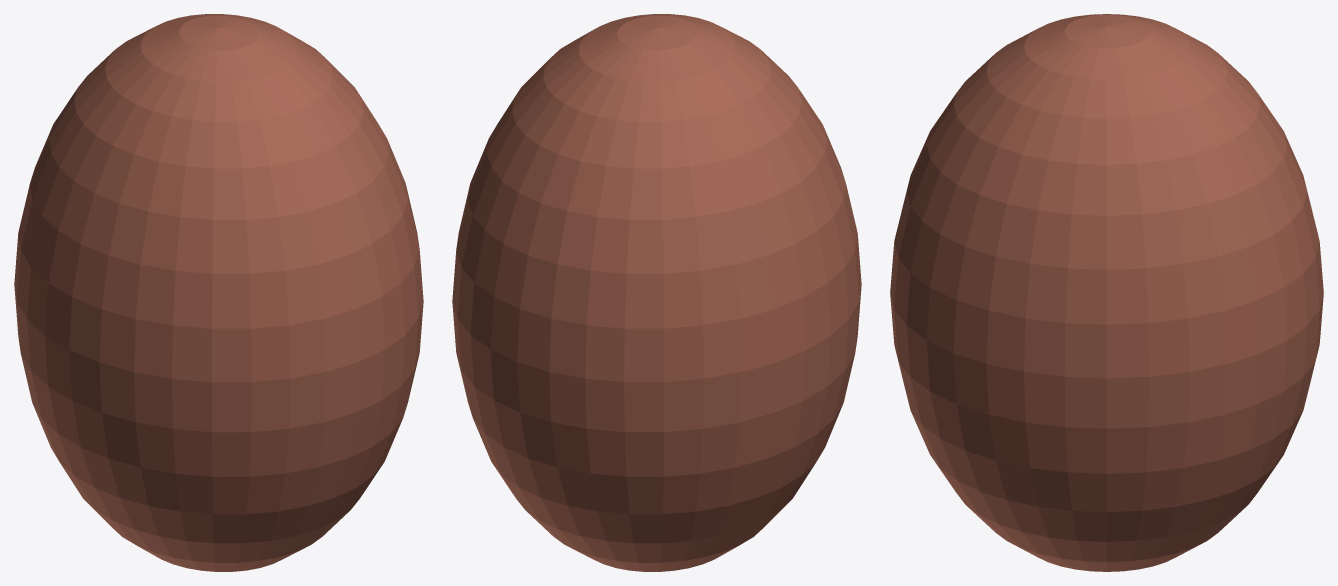
File: Telur.fbx
3 views of the same model, side by side, from view 1: azimuth 30°, elevation 25°; view 2: azimuth 150°, elevation 25°; view 3: azimuth 270°, elevation 25° (orthographic).
Parts seen in each view (by area): view 1: Sphere; view 2: Sphere; view 3: Sphere.
Boxes of the visible parts, left/top/right/bottom form: Sphere: left=14, top=14, right=423, bottom=571; Sphere: left=452, top=14, right=861, bottom=571; Sphere: left=890, top=14, right=1323, bottom=571.
Bounding box in the file's own units: 57.6 × 83.77 × 61.76.
